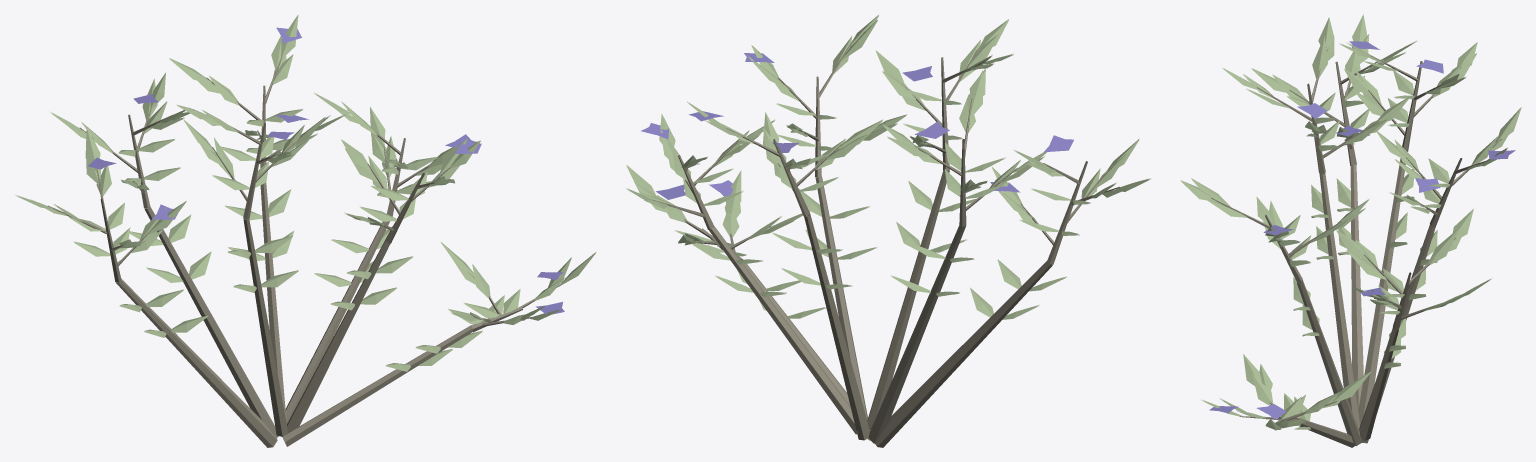
File: bush-1.glb
3 views of the same model, side by side, from view 1: azimuth 30°, elevation 25°; view 2: azimuth 150°, elevation 25°; view 3: azimuth 270°, elevation 25° (orthographic). The views are drawn at different scales.
Visible parts, largest first — view 1: Bush 1 - airy flowering sage; view 2: Bush 1 - airy flowering sage; view 3: Bush 1 - airy flowering sage.
Boxes of the visible parts, x1,y1,x2,y2 form: Bush 1 - airy flowering sage: [15, 14, 596, 447]; Bush 1 - airy flowering sage: [626, 15, 1150, 447]; Bush 1 - airy flowering sage: [1180, 14, 1521, 447].
Size of the model in its own units: 1.92 by 1.3 by 1.08.
